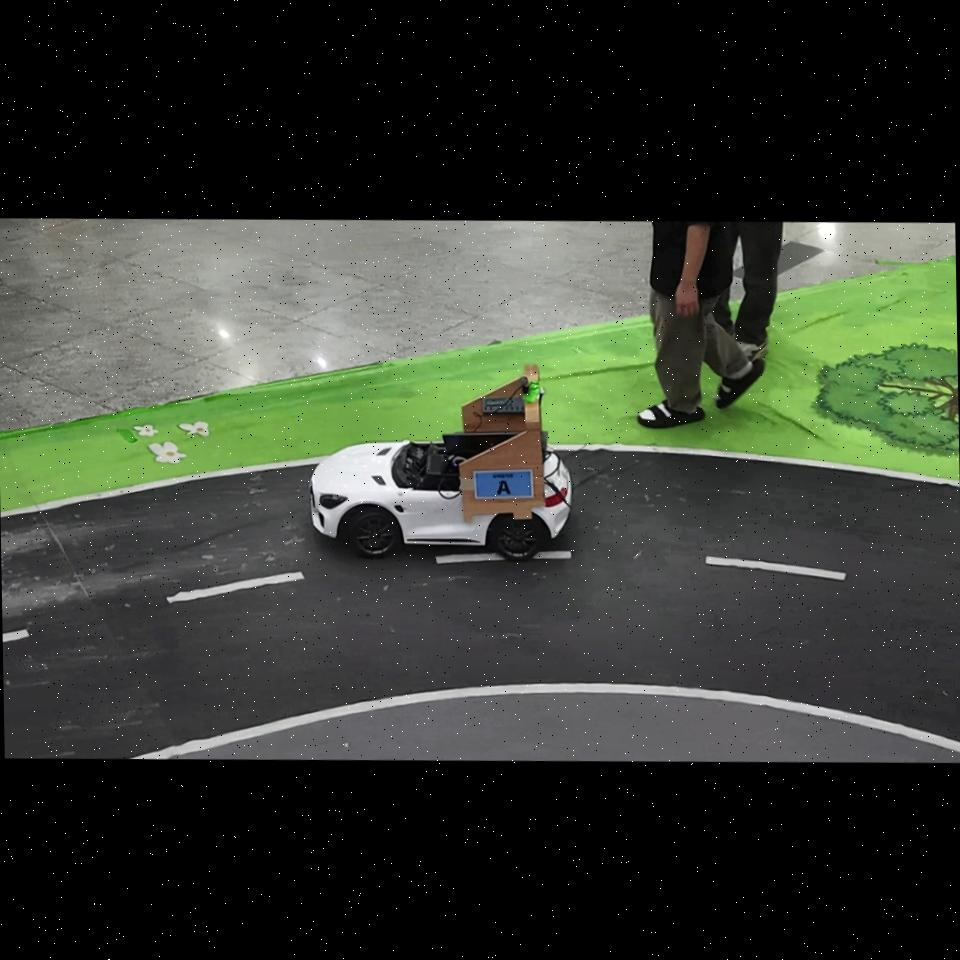broken_line: (166, 572, 305, 603), (705, 556, 846, 580), (436, 552, 506, 564), (3, 629, 30, 642), (531, 551, 572, 559)
